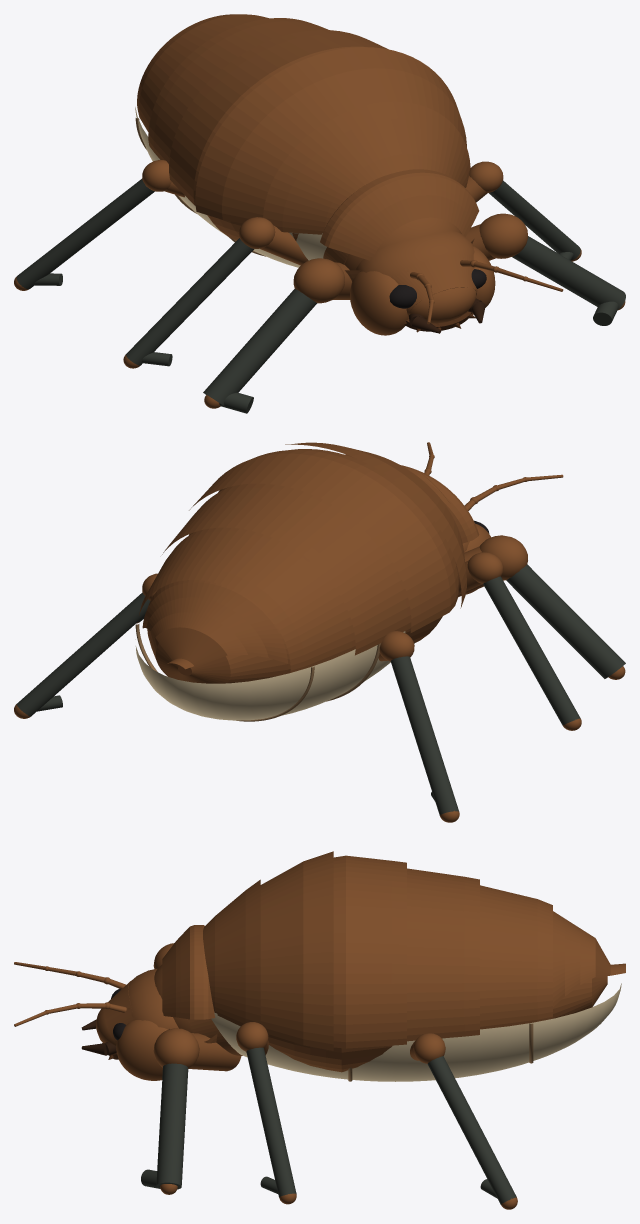
Rendered from builder_beetle.glb.
The picture shows the model from 3 angles, top to bottom: view 1: azimuth 30°, elevation 25°; view 2: azimuth 150°, elevation 25°; view 3: azimuth 270°, elevation 25°; orthographic projection. The views are drawn at different scales.
Visible parts, largest first — view 1: BeetlePlate_01, BeetlePlate_00, BeetlePlate_02, BeetleNeckTop, HeadBase001, BeetlePlate_03, Tibia007, BeetlePlate_04, Tibia008, Tibia011, Tibia006, cheek_R (+10 smaller); view 2: BeetlePlate_03, BeetlePlate_02, BeetlePlate_04, BeetlePlate_05, belly_fill, Tibia007, BeetleBodyInner, Tibia011, Tibia008, Tibia009, BeetlePlate_01, BeetleNeckTop (+4 smaller); view 3: BeetlePlate_02, BeetlePlate_01, BeetlePlate_03, BeetlePlate_04, belly_fill, BeetlePlate_00, BeetleNeckTop, BeetlePlate_05, BeetleBodyInner, Tibia006, Tibia009, Tibia010 (+7 smaller).
Boxes of the visible parts, x1,y1,x2,y2 form: BeetlePlate_01: [195, 47, 466, 223]; BeetlePlate_00: [263, 101, 470, 234]; BeetlePlate_02: [169, 30, 388, 205]; BeetleNeckTop: [320, 169, 479, 260]; HeadBase001: [355, 230, 477, 323]; BeetlePlate_03: [148, 18, 328, 164]; Tibia007: [203, 288, 317, 405]; BeetlePlate_04: [137, 14, 268, 132]; Tibia008: [126, 238, 254, 365]; Tibia011: [16, 178, 154, 289]; Tibia006: [512, 236, 625, 309]; cheek_R: [350, 271, 408, 335]; BeetlePlate_03: [162, 483, 411, 655]; BeetlePlate_02: [189, 449, 458, 632]; BeetlePlate_04: [139, 527, 355, 672]; BeetlePlate_05: [142, 580, 290, 669]; belly_fill: [135, 631, 405, 720]; Tibia007: [506, 564, 625, 678]; BeetleBodyInner: [147, 454, 457, 683]; Tibia011: [390, 656, 459, 815]; Tibia008: [483, 576, 580, 725]; Tibia009: [16, 592, 150, 716]; BeetlePlate_01: [285, 442, 466, 608]; BeetleNeckTop: [401, 465, 479, 543]; BeetlePlate_02: [333, 855, 406, 1048]; BeetlePlate_01: [260, 851, 333, 1050]; BeetlePlate_03: [407, 868, 479, 1041]; BeetlePlate_04: [480, 885, 552, 1029]; belly_fill: [211, 983, 621, 1081]; BeetlePlate_00: [203, 879, 260, 1026]; BeetleNeckTop: [162, 925, 215, 1019]; BeetlePlate_05: [553, 911, 625, 1006]; BeetleBodyInner: [268, 976, 607, 1072]; Tibia006: [156, 1063, 188, 1189]; Tibia009: [427, 1056, 516, 1204]; Tibia010: [246, 1047, 296, 1197].
Bounding box in the file's own units: 3.99 × 2.12 × 4.86.
